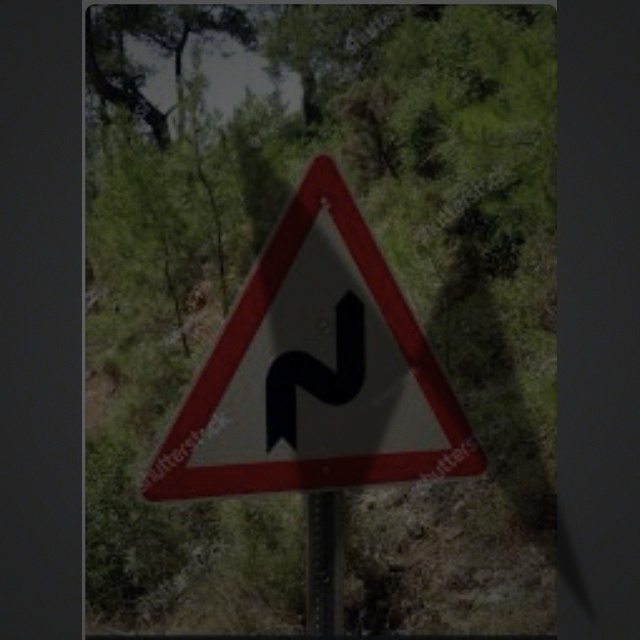Right_Reverse_Bend: (139, 152, 488, 482)
